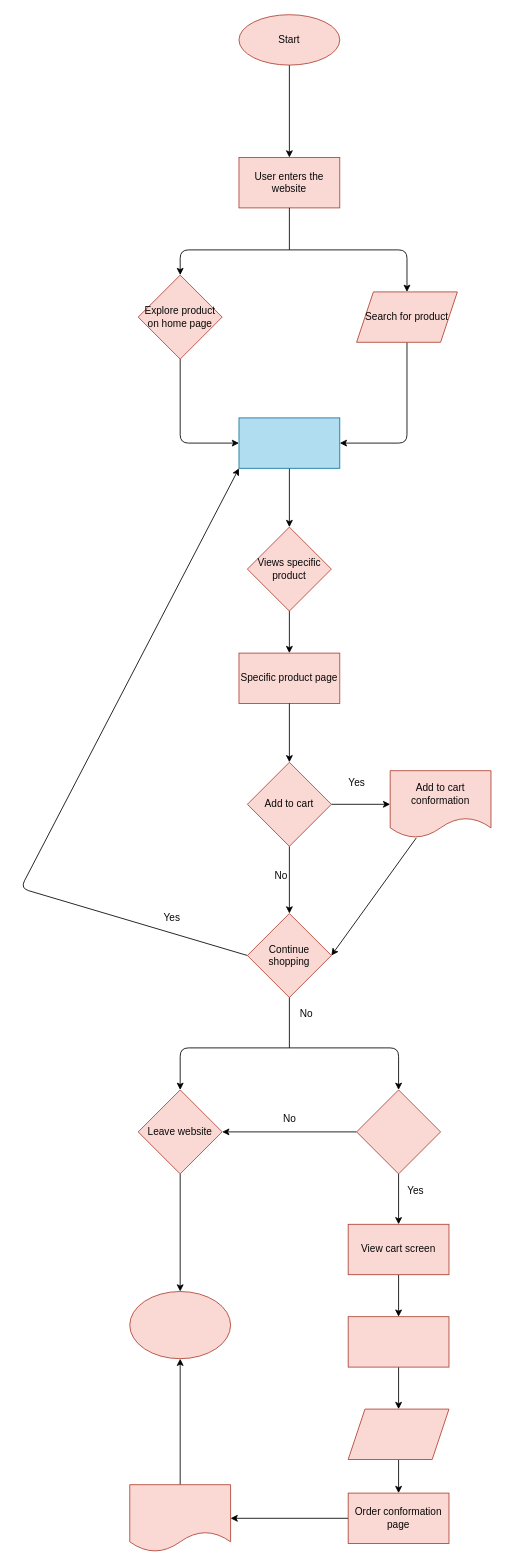
Image size: 506x1567. Some labels were removed from this diagram. The shapes that lost their labels are listed below. From the top down, each one's box as (x1, y1, x2, y2) in pixels, then its label:
(238, 417, 340, 468): User browes the website for products
(356, 1089, 441, 1174): Checkout
(129, 1291, 231, 1359): Leaves website
(347, 1316, 449, 1367): View payment screen
(347, 1408, 449, 1460): Input payment information
(129, 1484, 231, 1552): Recieve email
